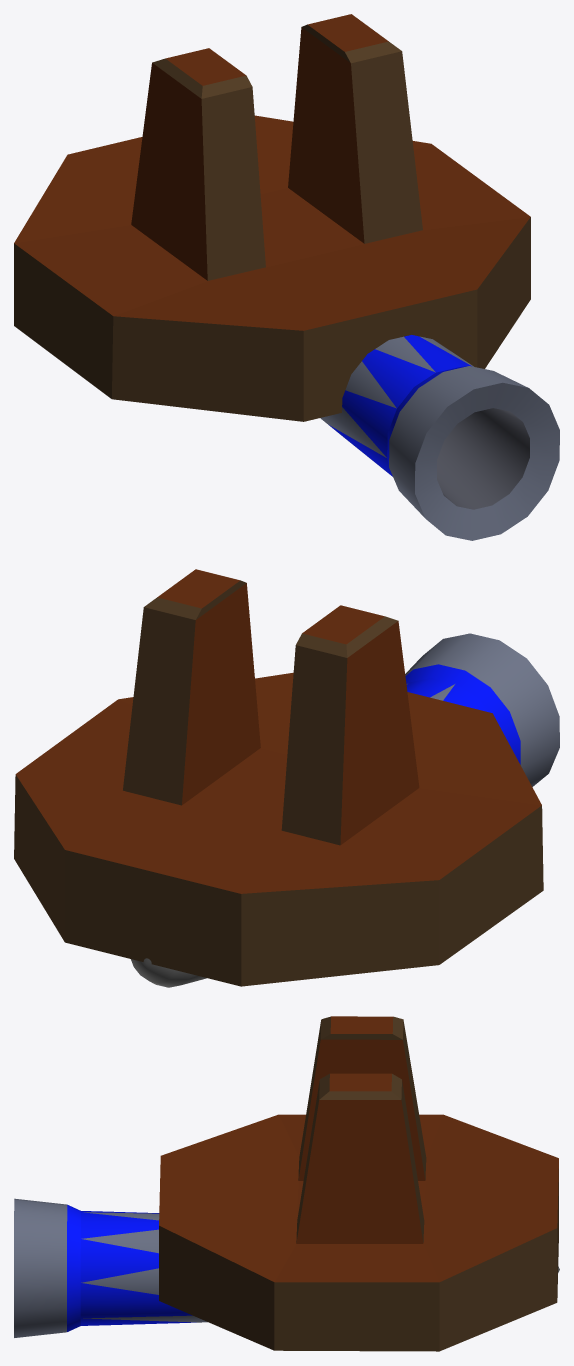
Rendered from Cannon1.fbx.
3 renders of one model, top to bottom at view 1: azimuth 30°, elevation 25°; view 2: azimuth 150°, elevation 25°; view 3: azimuth 270°, elevation 25°, orthographic. The views are drawn at different scales.
Visible parts, largest first — view 1: Rotater005, Cannon005; view 2: Rotater005, Cannon005; view 3: Rotater005, Cannon005.
Boxes of the visible parts, <box> form: Rotater005: <box>14,14,530,421</box>; Cannon005: <box>320,335,559,540</box>; Rotater005: <box>14,569,543,986</box>; Cannon005: <box>131,633,559,987</box>; Rotater005: <box>159,1016,558,1351</box>; Cannon005: <box>14,1198,559,1337</box>.
Size of the model in its own units: 87.54 by 66.87 by 119.
